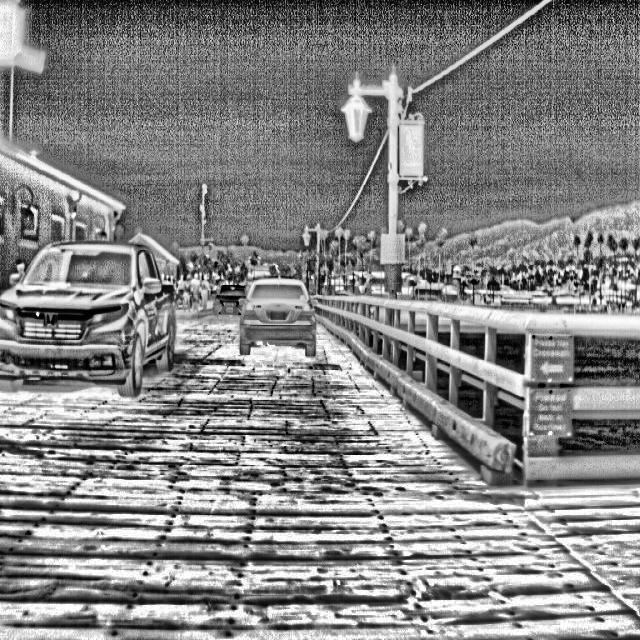car: (16, 244, 178, 387), (233, 274, 318, 352), (212, 283, 286, 341)
light: (343, 74, 437, 210)
person and bycle: (188, 267, 220, 317), (175, 269, 197, 310), (190, 272, 204, 305)
